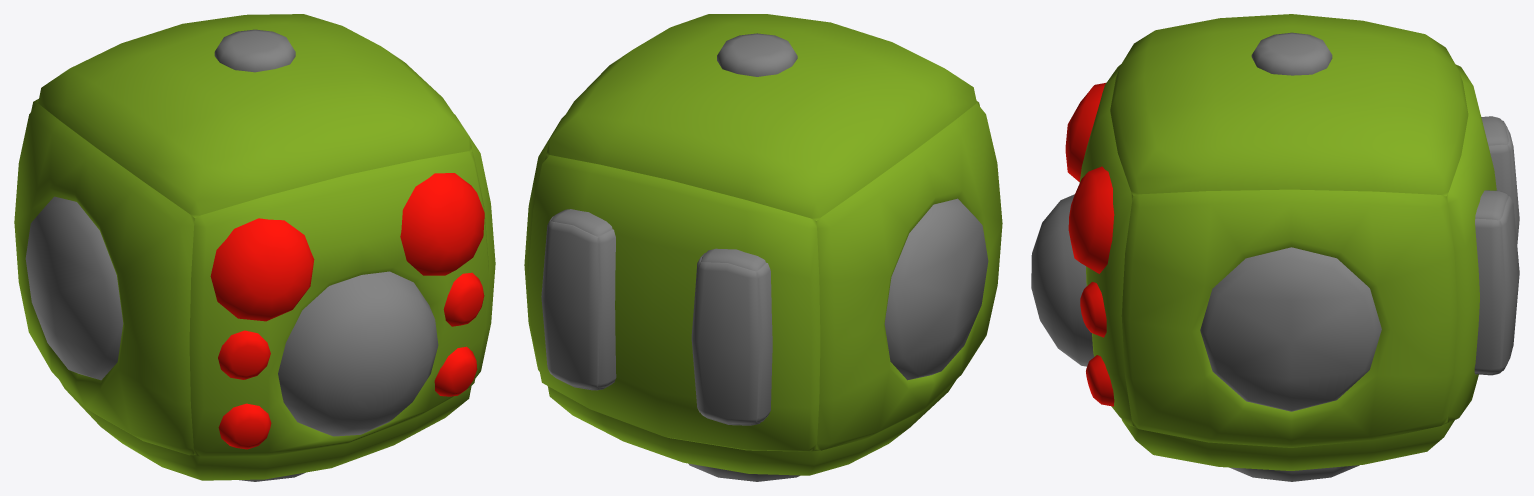
Rendered from kin_golf_totebothead.fbx.
The picture shows the model from 3 angles, left to right: view 1: azimuth 30°, elevation 25°; view 2: azimuth 150°, elevation 25°; view 3: azimuth 270°, elevation 25°; orthographic projection.
Visible parts, largest first — view 1: env_golf_totebotballoon; view 2: env_golf_totebotballoon; view 3: env_golf_totebotballoon.
Boxes of the visible parts, x1,y1,x2,y2 form: env_golf_totebotballoon: (14,14,495,481); env_golf_totebotballoon: (524,14,1002,481); env_golf_totebotballoon: (1031,14,1519,481).
Bounding box in the file's own units: 35.44 × 34.94 × 37.66.
